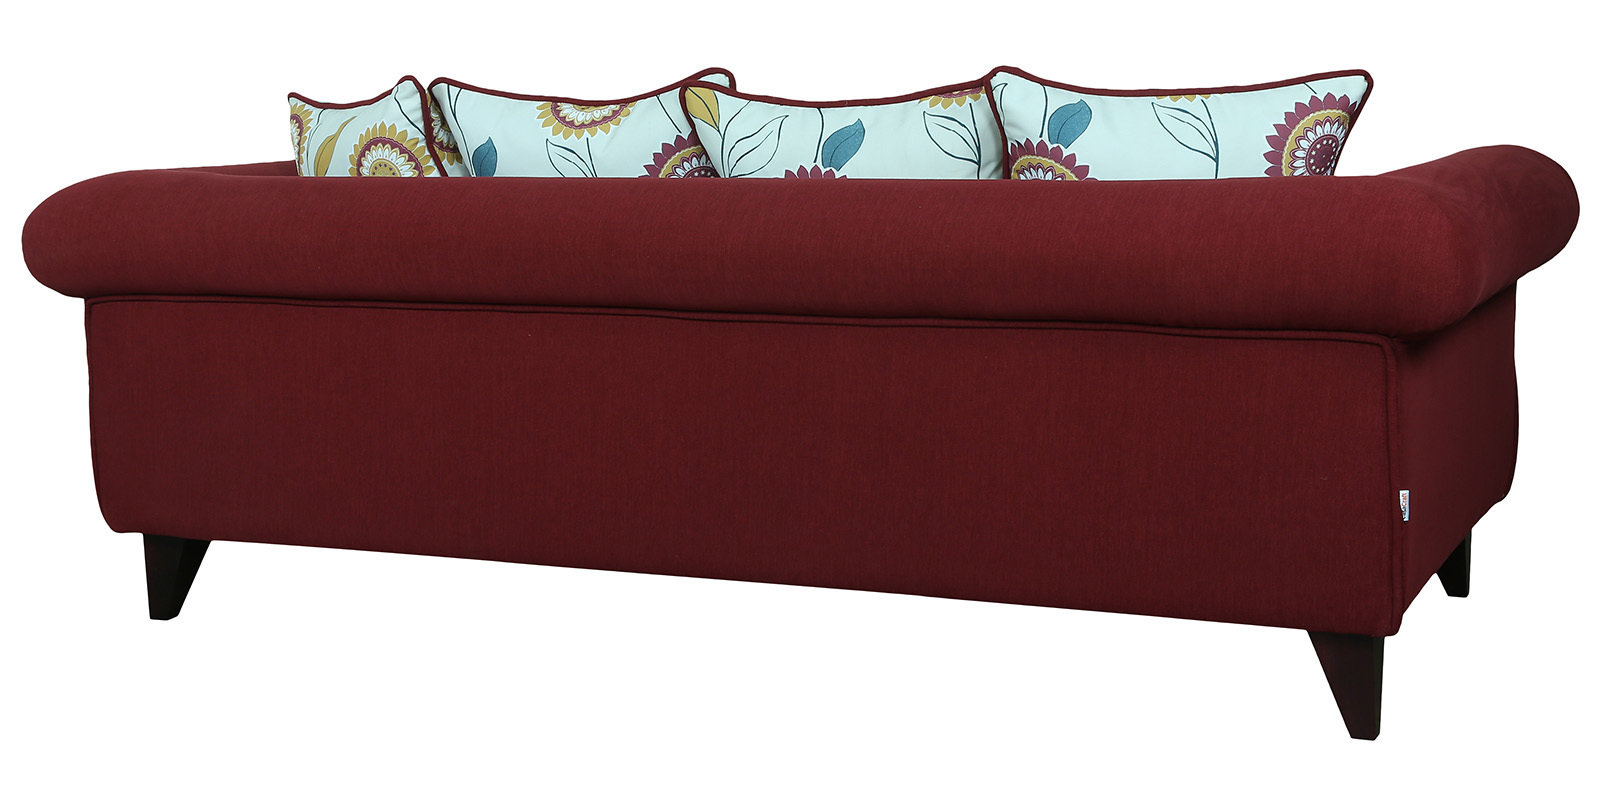Cielo Three Seater Sofa in Garnet Red Colour by CasaCraft: (6, 63, 1584, 743)
